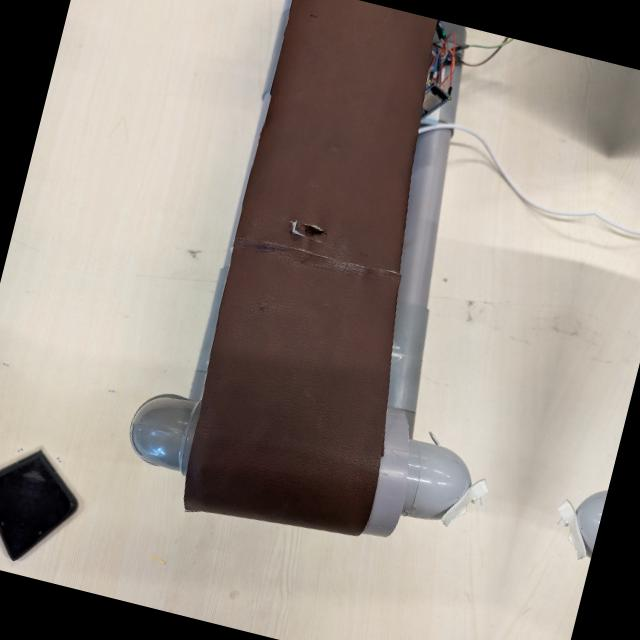joint_damage: (268, 201, 349, 266)
